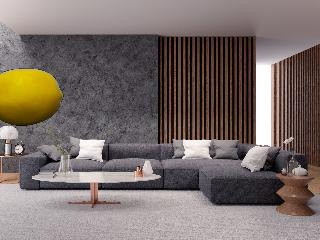lemon: (0, 68, 63, 123)
